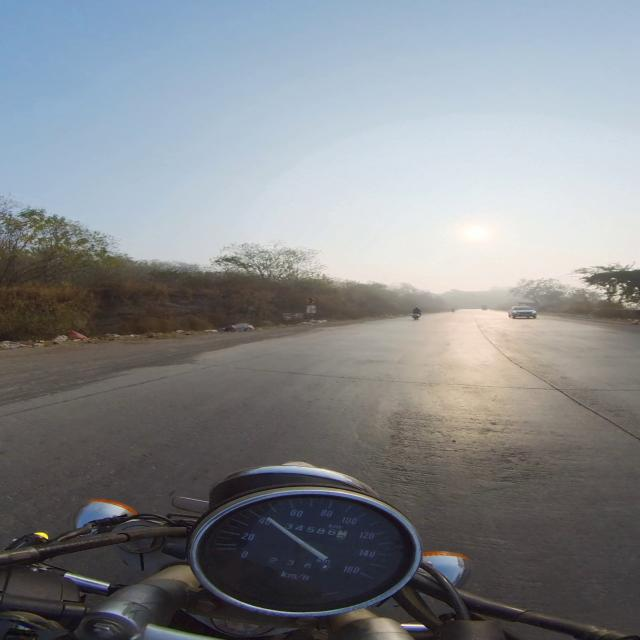car: (508, 306, 537, 318)
motorcycle: (0, 463, 639, 639), (412, 313, 421, 320)
